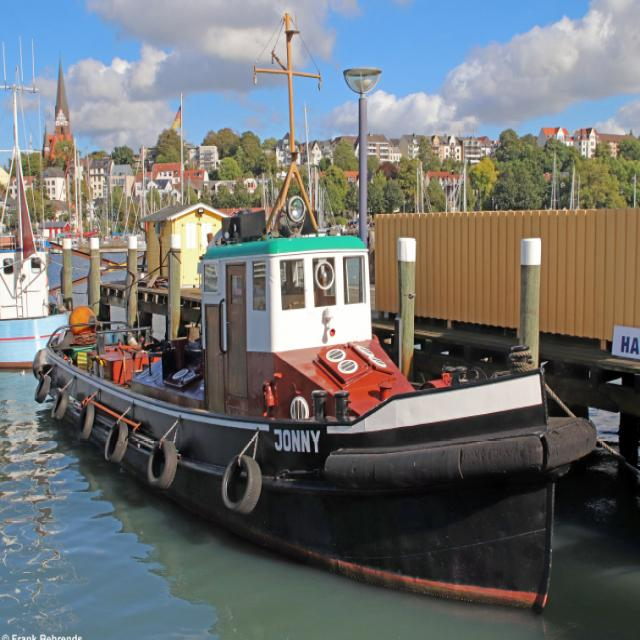tugboat: (31, 10, 602, 627)
